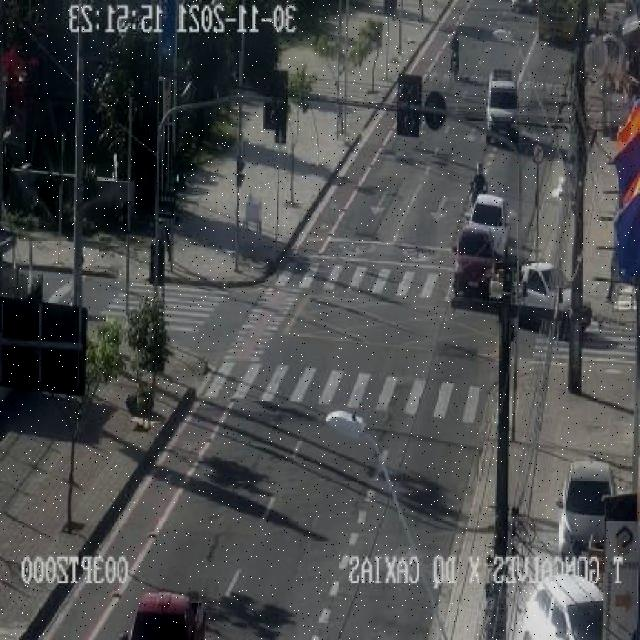bus: (534, 0, 580, 45)
car: (490, 260, 593, 336), (559, 460, 616, 571), (523, 574, 605, 640), (129, 592, 206, 640), (454, 224, 496, 296), (470, 193, 510, 262), (486, 68, 520, 141)
motorbike: (470, 162, 488, 208), (451, 29, 462, 80)
